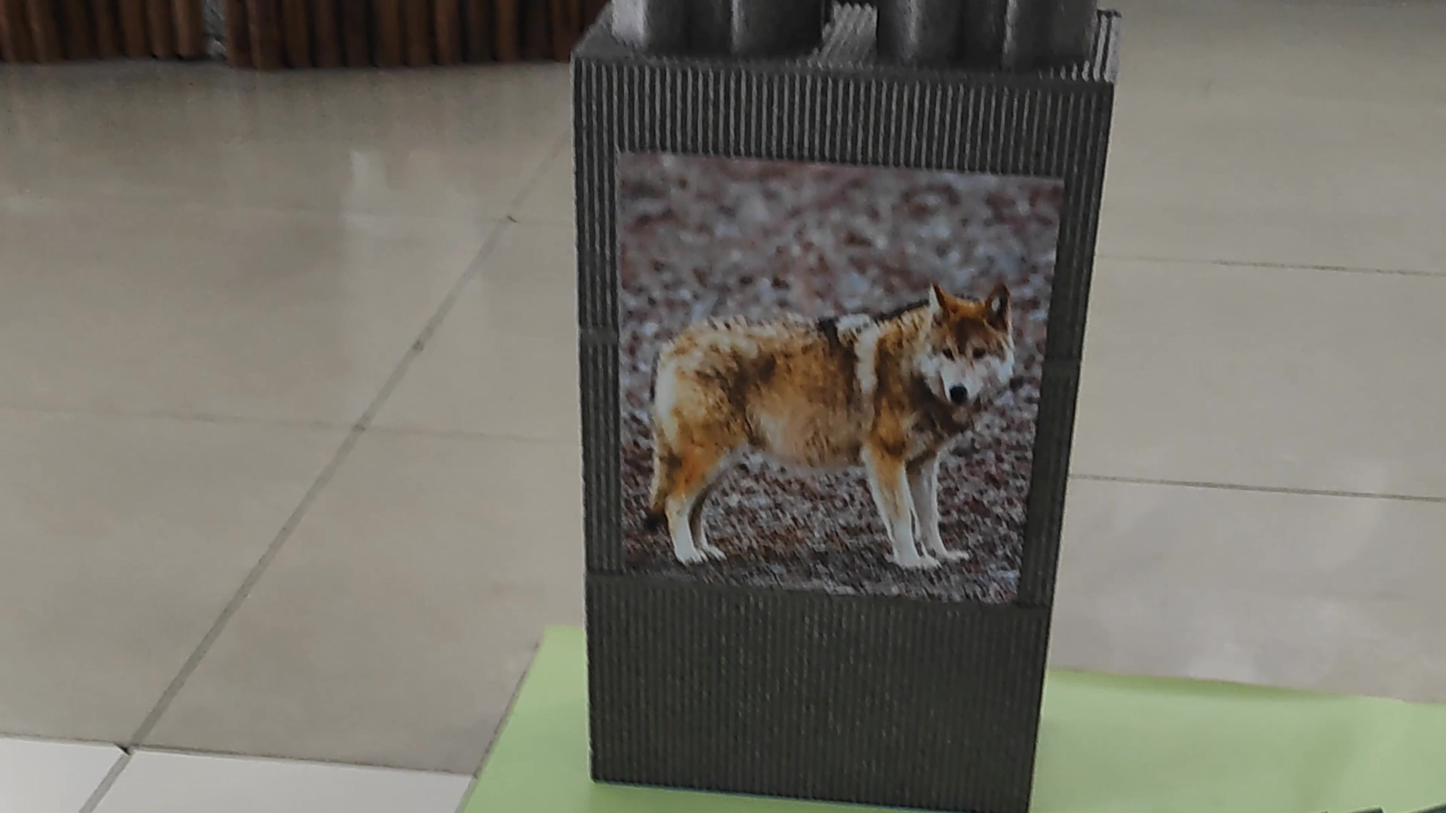wolf: (625, 265, 1020, 583)
